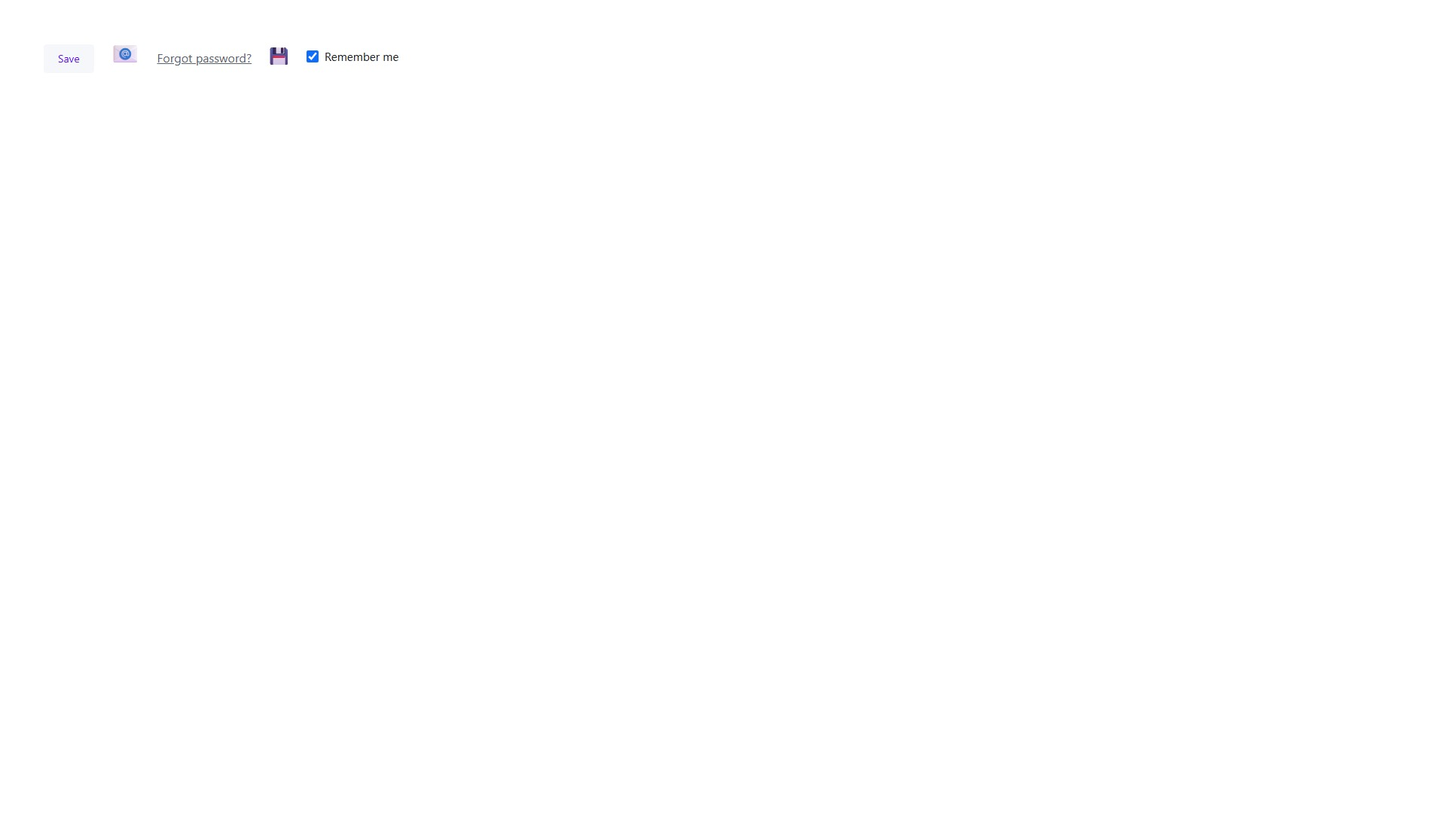button: (44, 44, 94, 73)
checkbox: (307, 50, 319, 62)
icon: (325, 49, 399, 64), (109, 41, 142, 65), (267, 46, 292, 64)
link: (157, 50, 252, 65)
radio: (307, 49, 399, 64)
